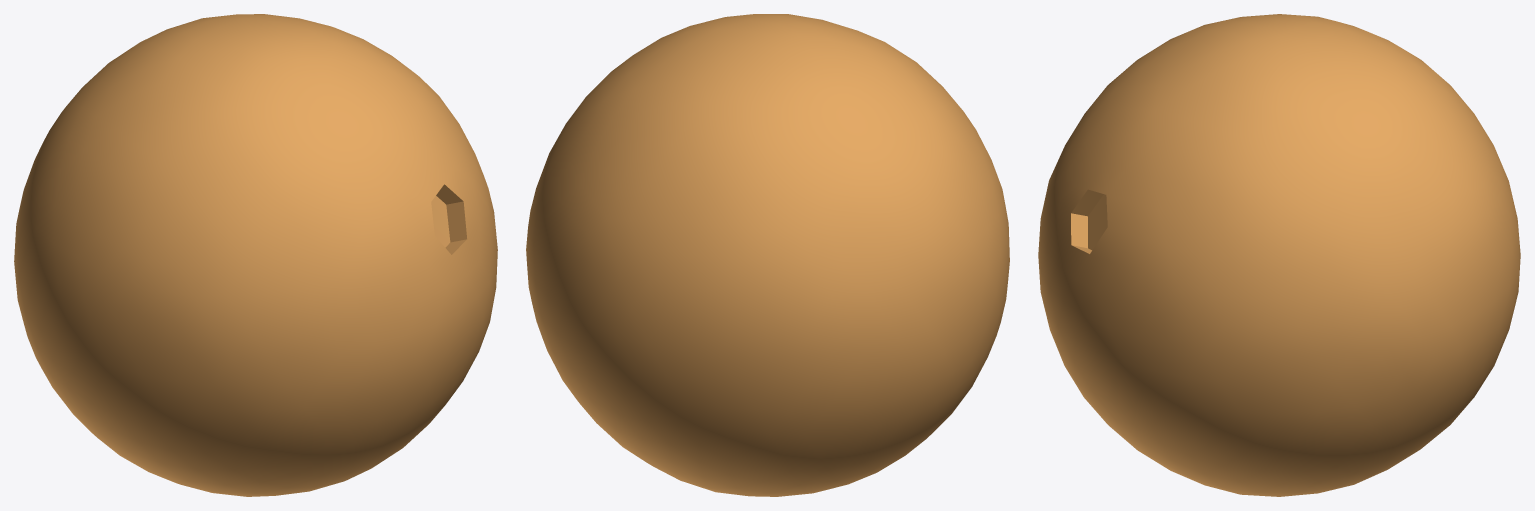
File: desert_sphere.glb
The picture shows the model from 3 angles, left to right: view 1: azimuth 30°, elevation 25°; view 2: azimuth 150°, elevation 25°; view 3: azimuth 270°, elevation 25°; orthographic projection.
Visible parts, largest first — view 1: Planet; view 2: Planet; view 3: Planet.
Part boxes in pixels (bbox=[...]): Planet: bbox=[14, 14, 497, 496]; Planet: bbox=[526, 14, 1009, 496]; Planet: bbox=[1038, 14, 1520, 496].
Size of the model in its own units: 140 by 140 by 140.
